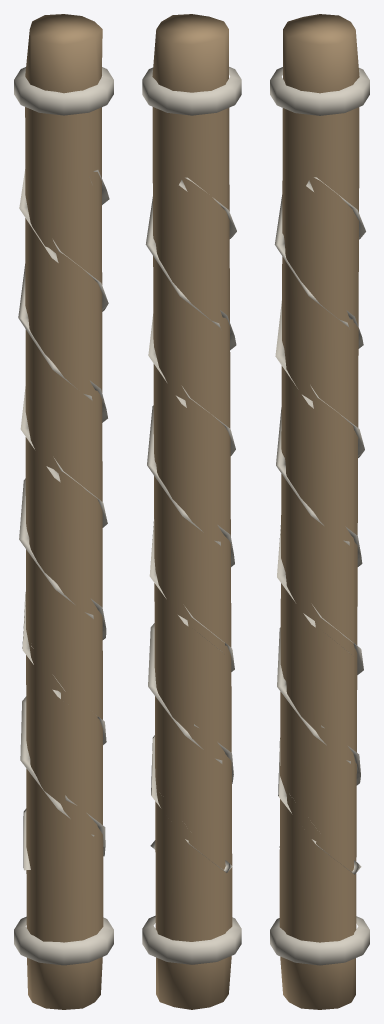
Rendered from exterior_mythic.glb.
The picture shows the model from 3 angles, left to right: view 1: azimuth 30°, elevation 25°; view 2: azimuth 150°, elevation 25°; view 3: azimuth 330°, elevation 25°; orthographic projection.
Visible parts, largest first — view 1: exterior_mythic; view 2: exterior_mythic; view 3: exterior_mythic.
Boxes of the visible parts, box(x1,y1,x2,y2) form: exterior_mythic: box(14, 14, 113, 1009); exterior_mythic: box(142, 14, 241, 1009); exterior_mythic: box(270, 14, 369, 1009).
Size of the model in its own units: 0.0936 by 1 by 0.0936.
